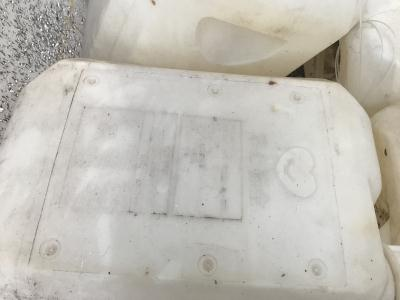bucket: (3, 56, 395, 300)
